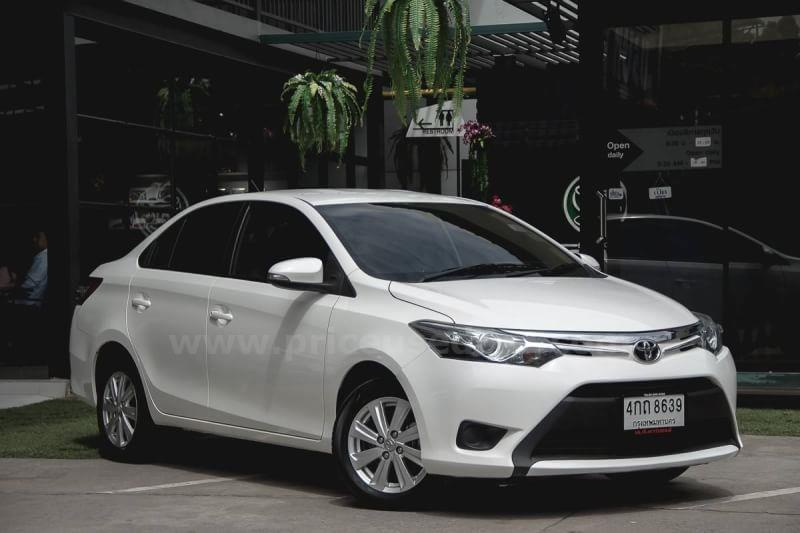sedan: (66, 183, 748, 511)
